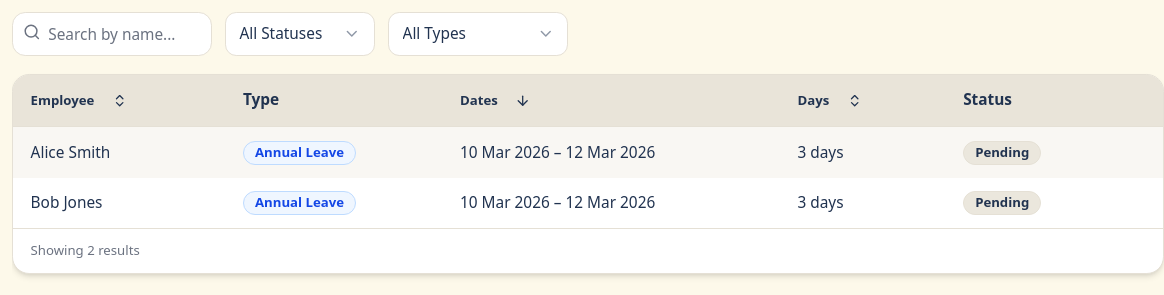
Test case: LeaveRequestTable › filters by employee name
In the field with placeholder "Search by name...": {"x": 112, "y": 34} [12,12,212,56], type "Alice"
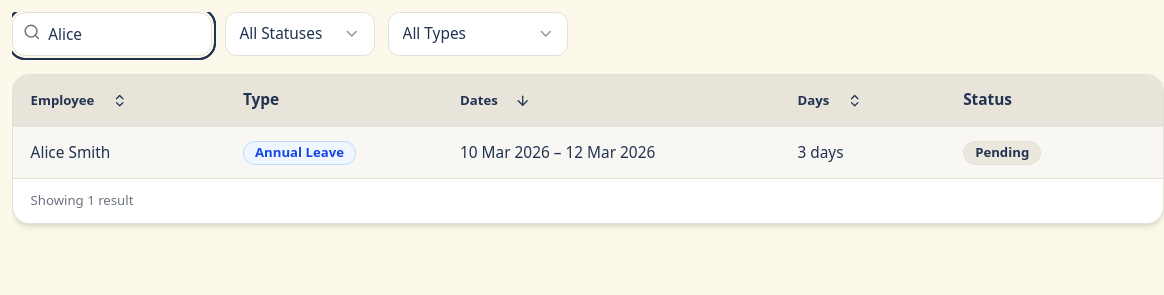
Check: the text "Alice Smith" is shown, box [31,142,110,163]
Check: the text "Bob Jones" is gone
Check: the text "Showing 1 result" is shown, box [31,191,133,209]
